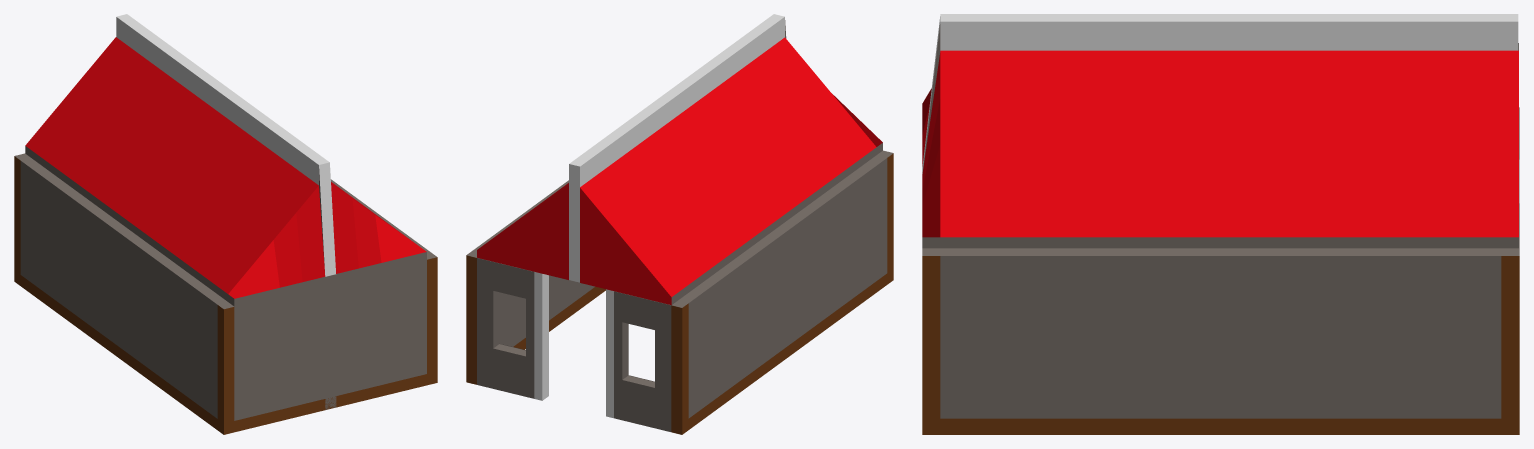
File: house.fbx
The picture shows the model from 3 angles, left to right: view 1: azimuth 30°, elevation 25°; view 2: azimuth 150°, elevation 25°; view 3: azimuth 270°, elevation 25°; orthographic projection. The views are drawn at different scales.
Visible parts, largest first — view 1: Cube; view 2: Cube; view 3: Cube.
Boxes of the visible parts, left/top/right/bottom form: Cube: left=14, top=14, right=437, bottom=434; Cube: left=466, top=14, right=893, bottom=434; Cube: left=922, top=14, right=1519, bottom=434.
Size of the model in its own units: 3916 by 4211 by 6646.
